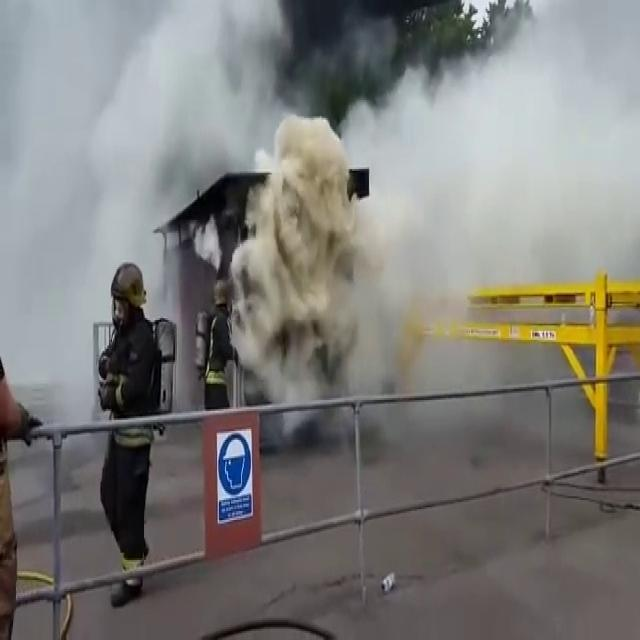Smoke: (416, 35, 632, 254), (0, 0, 222, 187), (243, 148, 389, 392)
